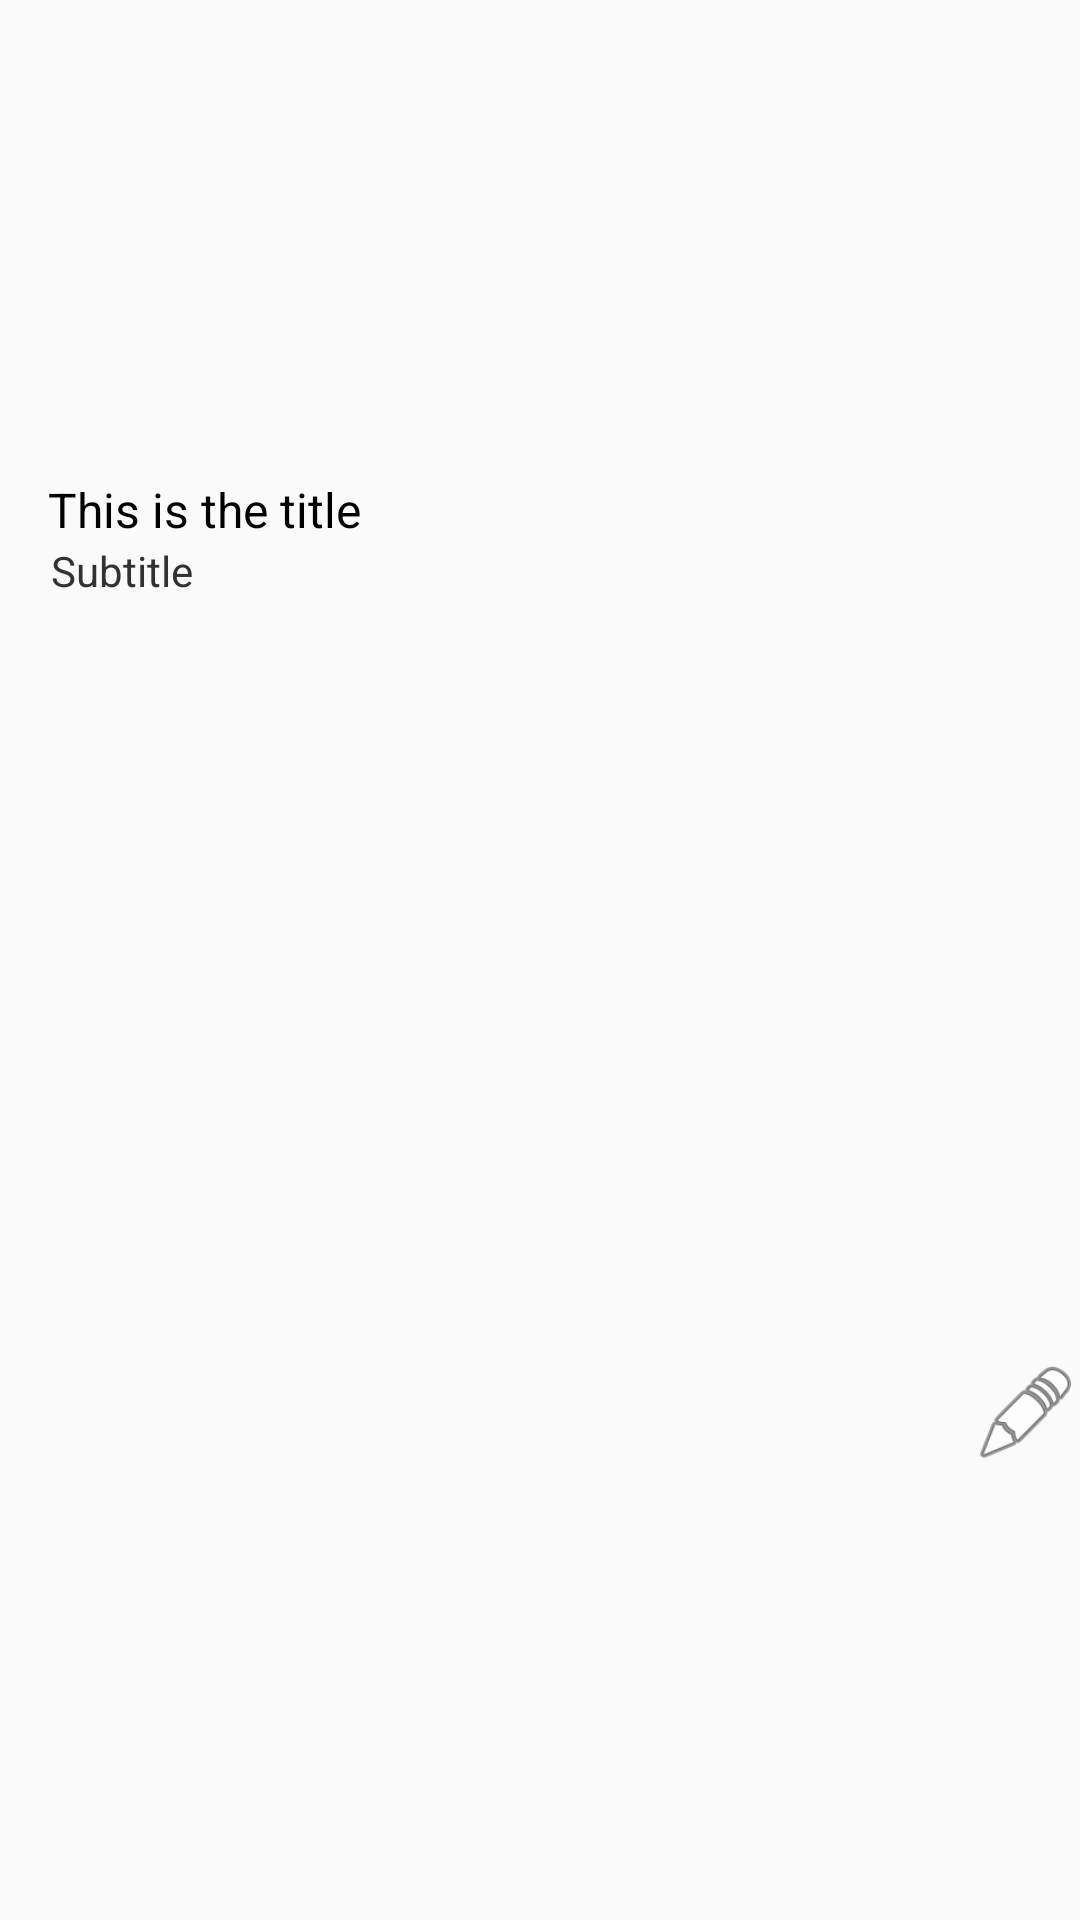

Named icons in this screenshot (1080 x 1920) and their bounding boxes, (x1, y1, x2, y2):
edit: (980, 1367, 1071, 1458)
